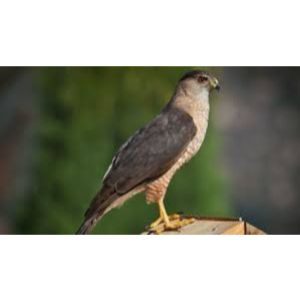hawk: (82, 68, 235, 236)
